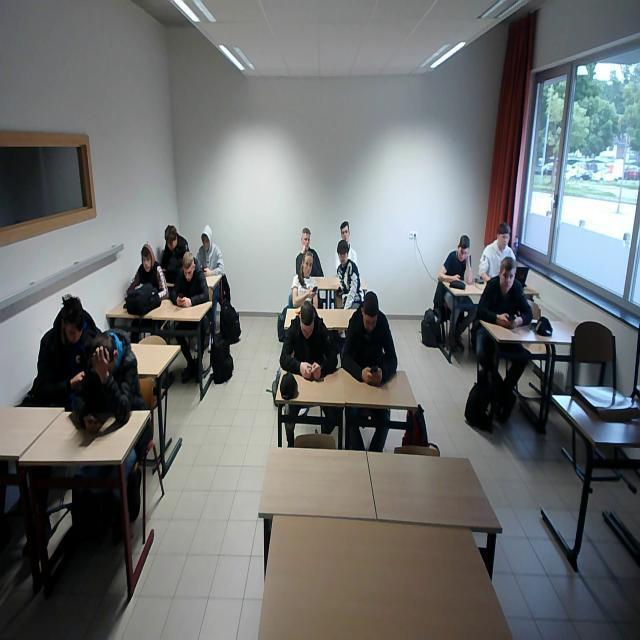Looking forward: (139, 244, 154, 272), (303, 255, 314, 278), (301, 232, 311, 254), (338, 244, 349, 263), (340, 225, 350, 241)
Phone use: (72, 332, 146, 439), (346, 288, 404, 392), (36, 284, 92, 388), (282, 303, 342, 383), (482, 258, 532, 326), (170, 251, 213, 315), (438, 228, 476, 290), (152, 218, 186, 276), (194, 220, 228, 278)
